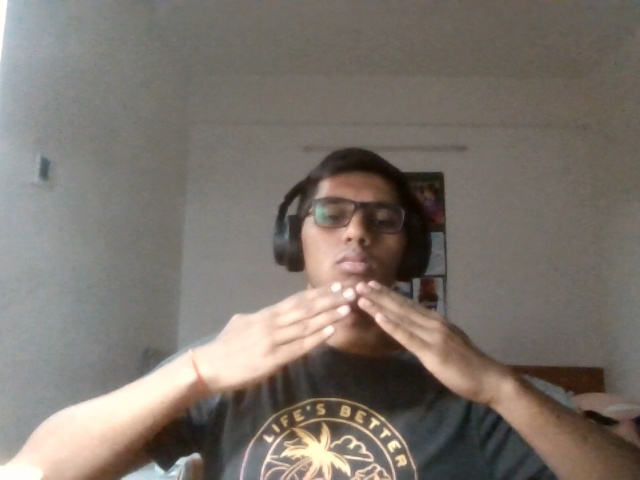thankyou: (203, 272, 506, 414)
